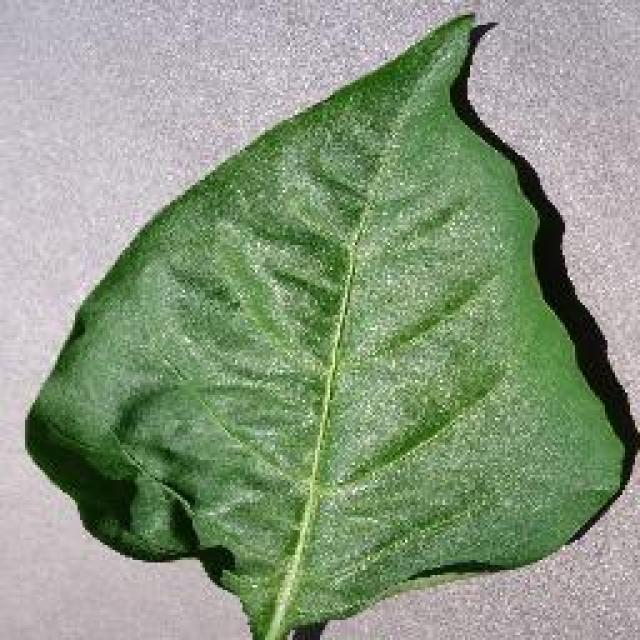Chilli_Healthy: (22, 10, 638, 638)
